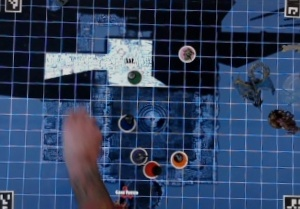blue: (113, 113, 140, 133)
green: (124, 68, 145, 87)
orange: (167, 148, 192, 169)
pink: (175, 42, 199, 64)
red: (141, 157, 162, 177)
violet: (127, 144, 148, 164)
